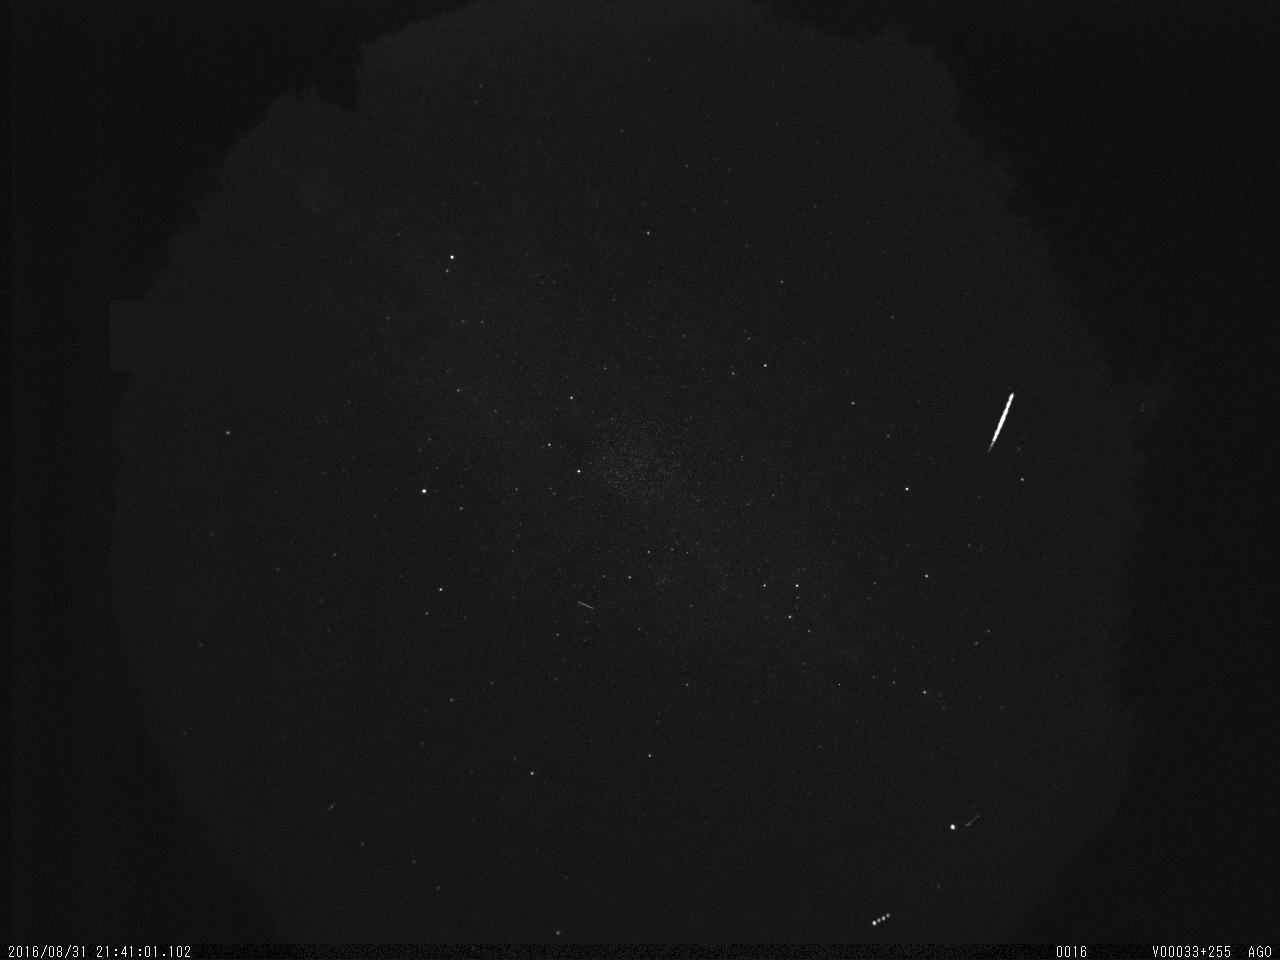meteor: (978, 383, 1019, 459)
satelite: (864, 906, 902, 933)
